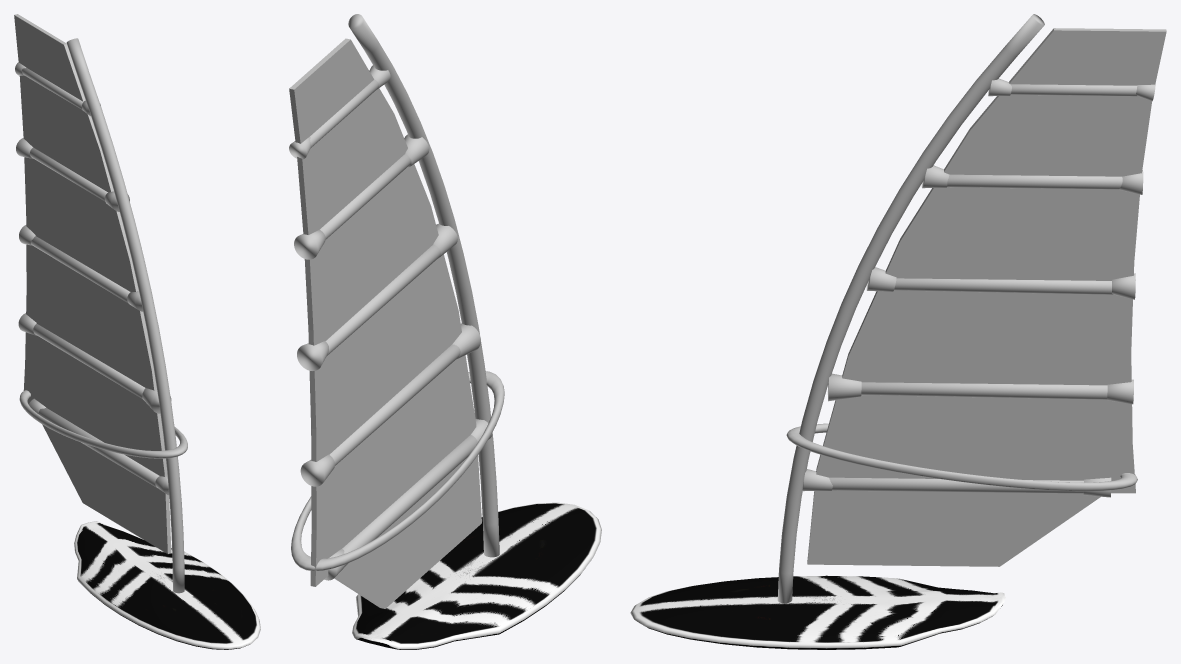
The model's file is 帆ver2.0.fbx.
The picture shows the model from 3 angles, left to right: view 1: azimuth 30°, elevation 25°; view 2: azimuth 150°, elevation 25°; view 3: azimuth 270°, elevation 25°; orthographic projection. The views are drawn at different scales.
Visible parts, largest first — view 1: トーラス.001, ボード; view 2: トーラス.001, ボード; view 3: トーラス.001, ボード.
Part boxes in pixels (x1,y1,x2,y2): トーラス.001: [14, 14, 187, 593]; ボード: [74, 521, 260, 649]; トーラス.001: [289, 14, 504, 608]; ボード: [352, 502, 601, 649]; トーラス.001: [777, 14, 1166, 603]; ボード: [630, 575, 1005, 649].
Size of the model in its own units: 1332 by 5449 by 4344.
